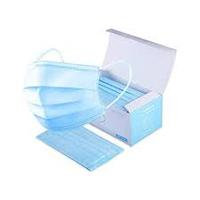flu mask: (21, 56, 108, 135)
